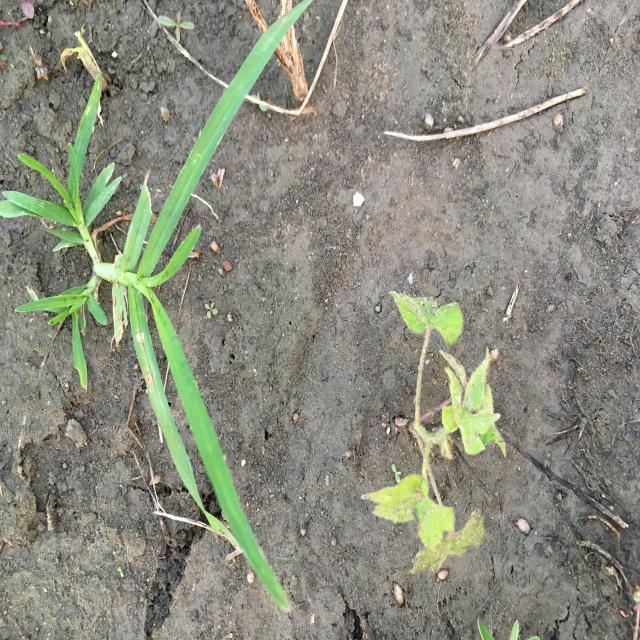Goosegrass: (1, 1, 320, 613)
MorningGlory: (359, 289, 507, 577)
